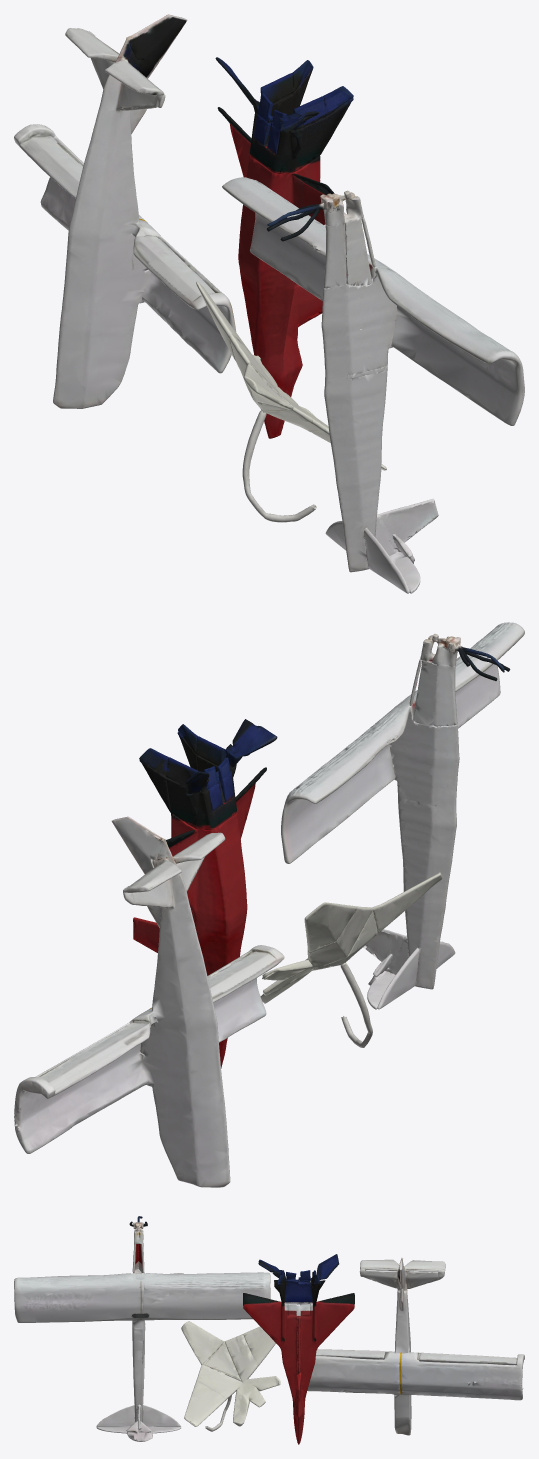
Rendered from abt-optimized.glb.
3 renders of one model, top to bottom at view 1: azimuth 30°, elevation 25°; view 2: azimuth 150°, elevation 25°; view 3: azimuth 270°, elevation 25°, orthographic. The views are drawn at different scales.
Parts seen in each view (by area): view 1: tripo_node_3d082d96-58c9-4469-bf00-53980a9fdc55; view 2: tripo_node_3d082d96-58c9-4469-bf00-53980a9fdc55; view 3: tripo_node_3d082d96-58c9-4469-bf00-53980a9fdc55.
Part boxes in pixels (x1=…): tripo_node_3d082d96-58c9-4469-bf00-53980a9fdc55: x1=14, y1=14, x2=524, y2=593; tripo_node_3d082d96-58c9-4469-bf00-53980a9fdc55: x1=14, y1=622, x2=524, y2=1187; tripo_node_3d082d96-58c9-4469-bf00-53980a9fdc55: x1=14, y1=1216, x2=524, y2=1444.
Bounding box in the file's own units: 0.2812 × 0.4339 × 0.9796.
1 material, 1 textured.
